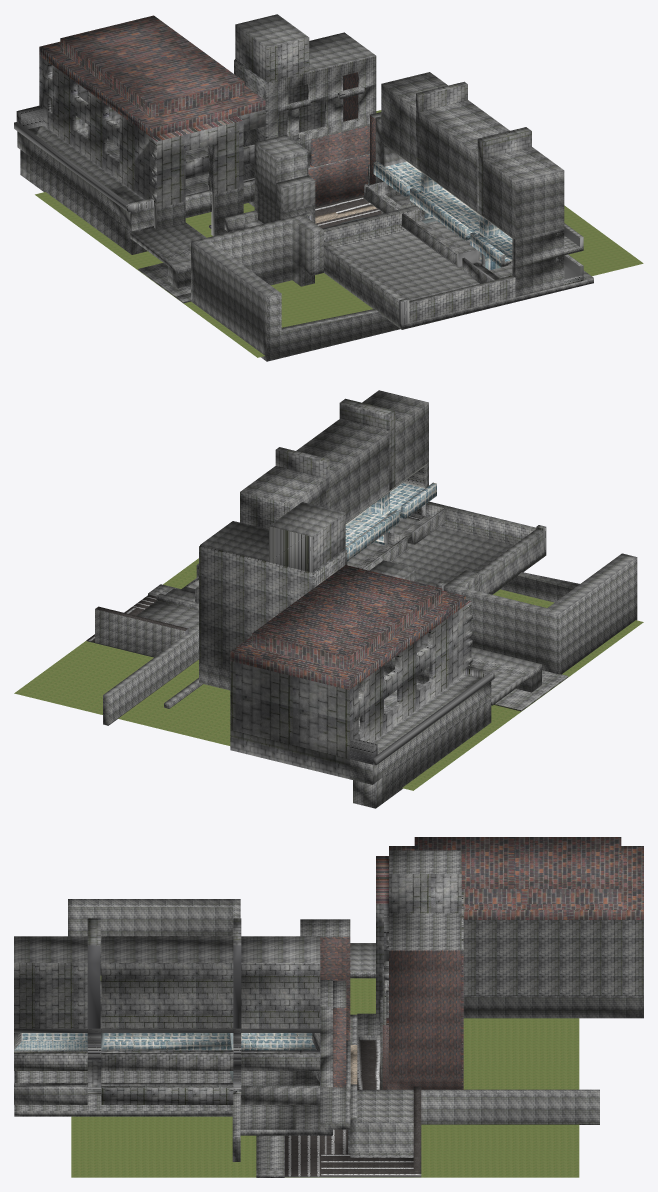
Rendered from decor.obj.
3 renders of one model, top to bottom at view 1: azimuth 30°, elevation 25°; view 2: azimuth 150°, elevation 25°; view 3: azimuth 270°, elevation 25°, orthographic. The views are drawn at different scales.
Visible parts, largest first — view 1: Cube.008, Plane; view 2: Cube.008, Plane; view 3: Cube.008, Plane.
Boxes of the visible parts, x1,y1,x2,y2 form: Cube.008: [14, 14, 593, 361]; Plane: [35, 110, 643, 357]; Cube.008: [86, 390, 637, 808]; Plane: [14, 558, 643, 790]; Cube.008: [14, 837, 643, 1177]; Plane: [71, 976, 579, 1177].
Size of the model in its own units: 1021 by 444 by 1264.
